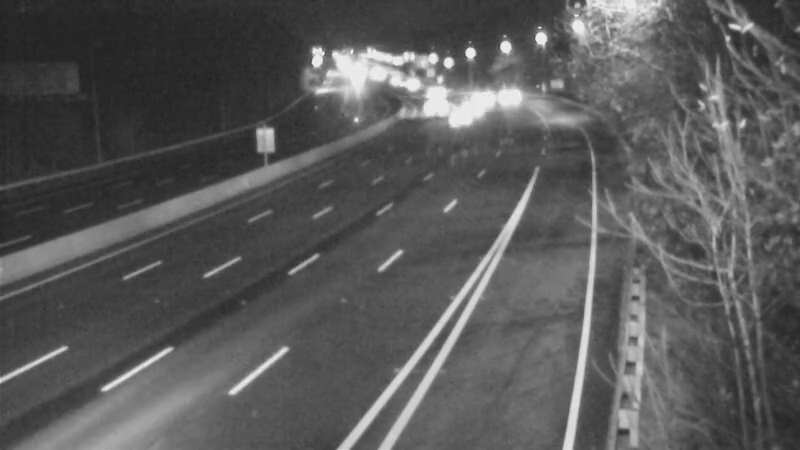vehicle: (366, 54, 416, 104), (389, 61, 439, 111), (404, 67, 454, 117), (482, 71, 532, 121), (457, 69, 507, 119), (448, 84, 498, 134), (412, 81, 462, 131), (438, 89, 488, 139)
